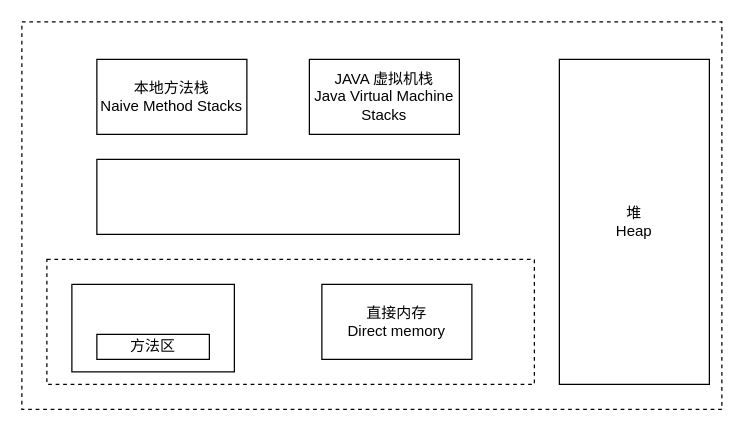
The diagram is 744 pixels wide and 431 high, and some of its shapes have lost their labels. The box of each missing label's shape, as (x1, y1, x2, y2) in pixels:
元空间 Metaspace: (71, 283, 234, 372)
程序计数器 Program counter register: (96, 158, 459, 234)
